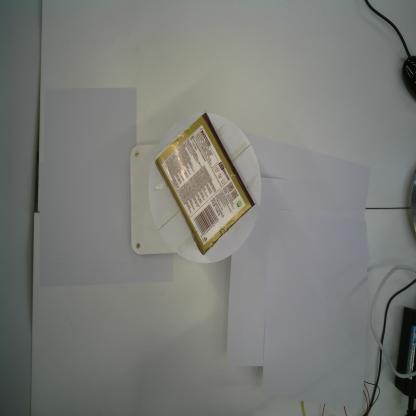Tissue: (155, 111, 255, 257)
